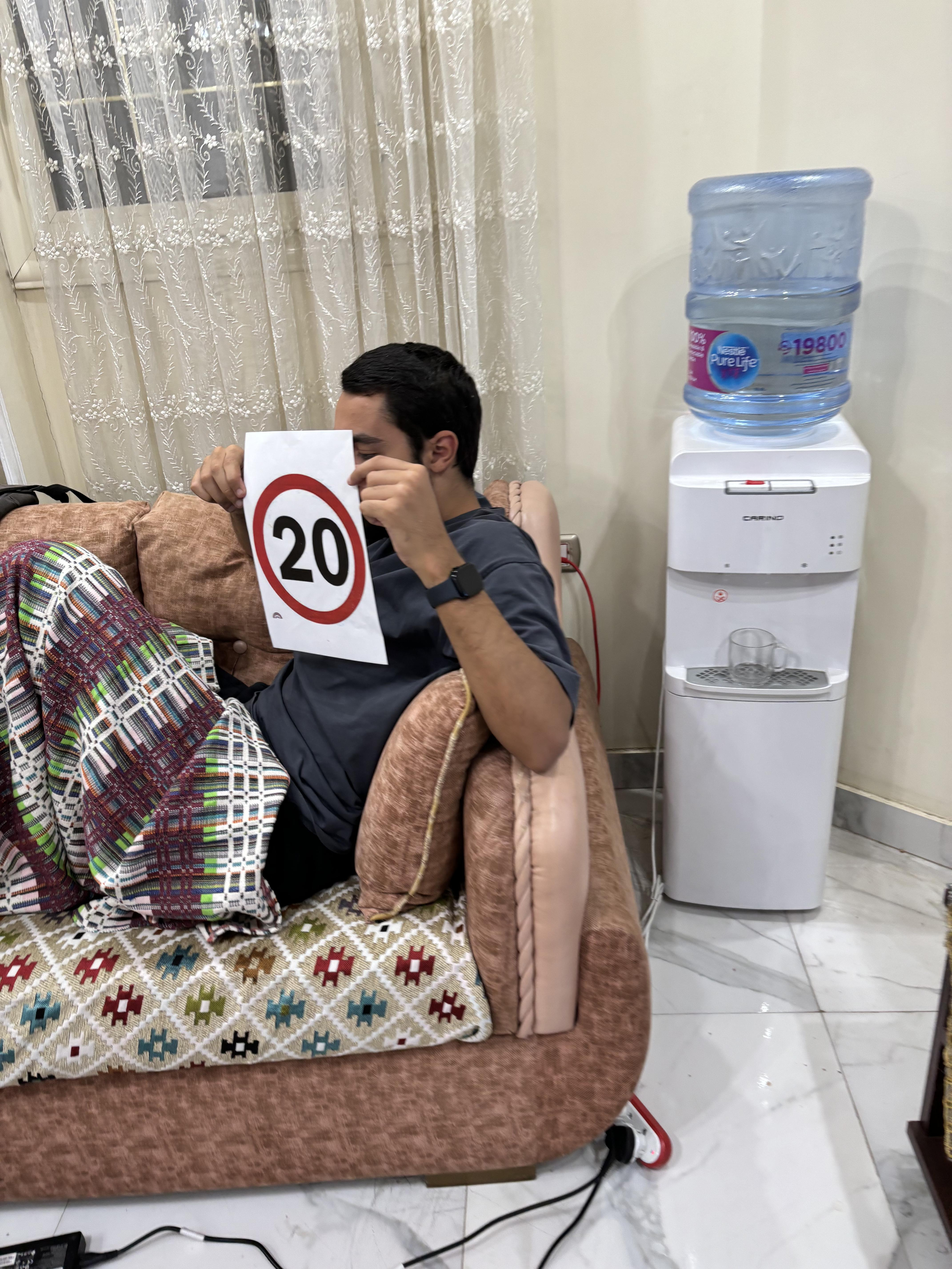20-Speed: (250, 474, 372, 625)
